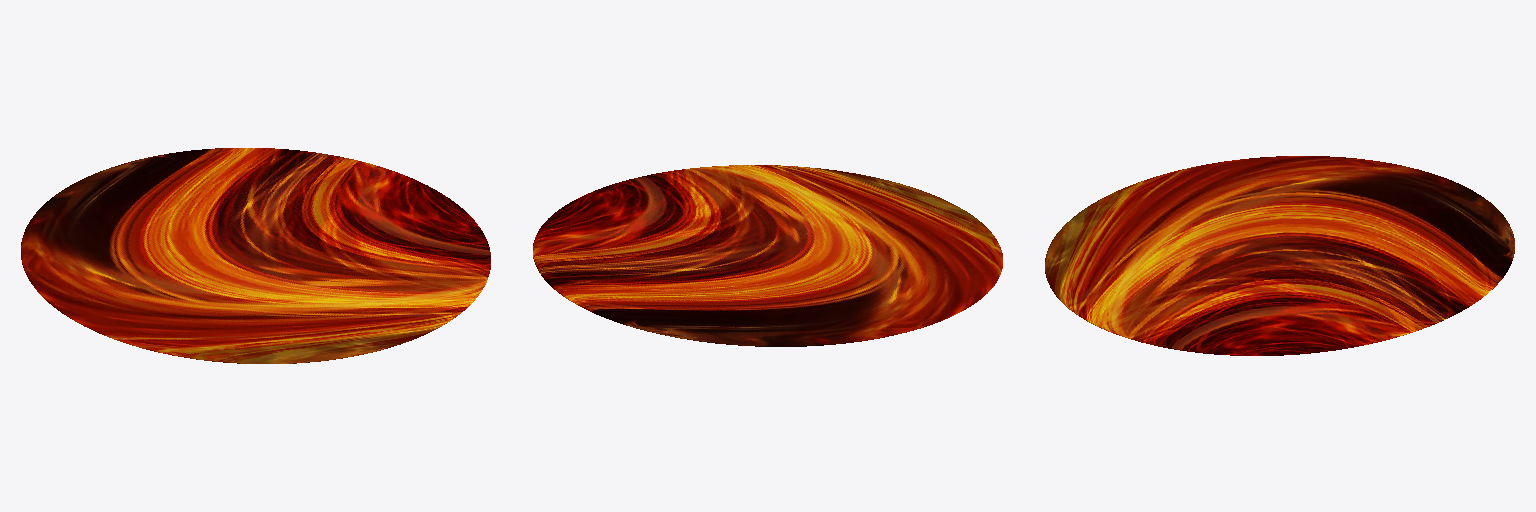
3 views of the same model, side by side, from view 1: azimuth 30°, elevation 25°; view 2: azimuth 150°, elevation 25°; view 3: azimuth 270°, elevation 25° (orthographic).
Parts seen in each view (by area): view 1: Mars_Sphere; view 2: Mars_Sphere; view 3: Mars_Sphere.
Boxes of the visible parts, box(x1,y1,x2,y2) form: Mars_Sphere: box(21, 148, 490, 363); Mars_Sphere: box(533, 165, 1002, 346); Mars_Sphere: box(1045, 156, 1514, 355).
Size of the model in its own units: 28.33 by 1.58 by 28.3.
1 materials, 1 textured.